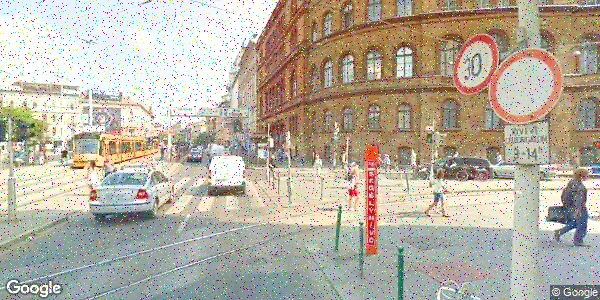b_speed_limit: (449, 32, 500, 96)
c_road_closed: (487, 46, 566, 126)
